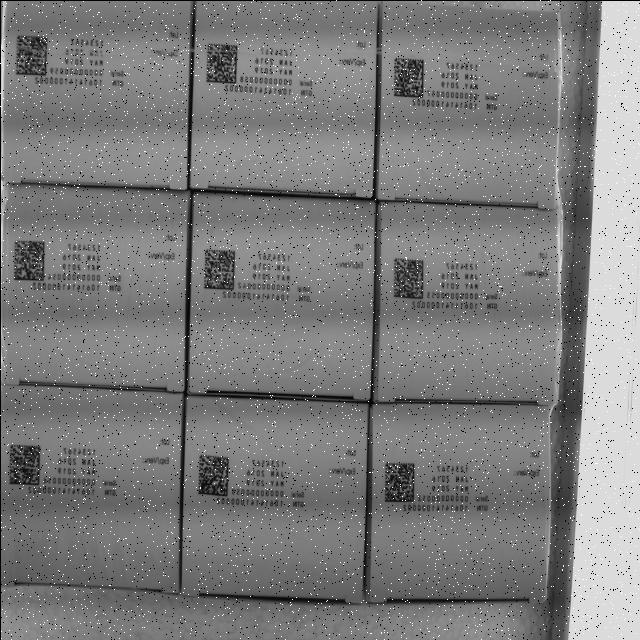datamatrix: (195, 452, 229, 497), (381, 459, 415, 504), (202, 246, 236, 290), (6, 441, 40, 485), (390, 54, 423, 98), (204, 42, 237, 86), (15, 31, 48, 75), (391, 256, 424, 300), (12, 240, 45, 284)
